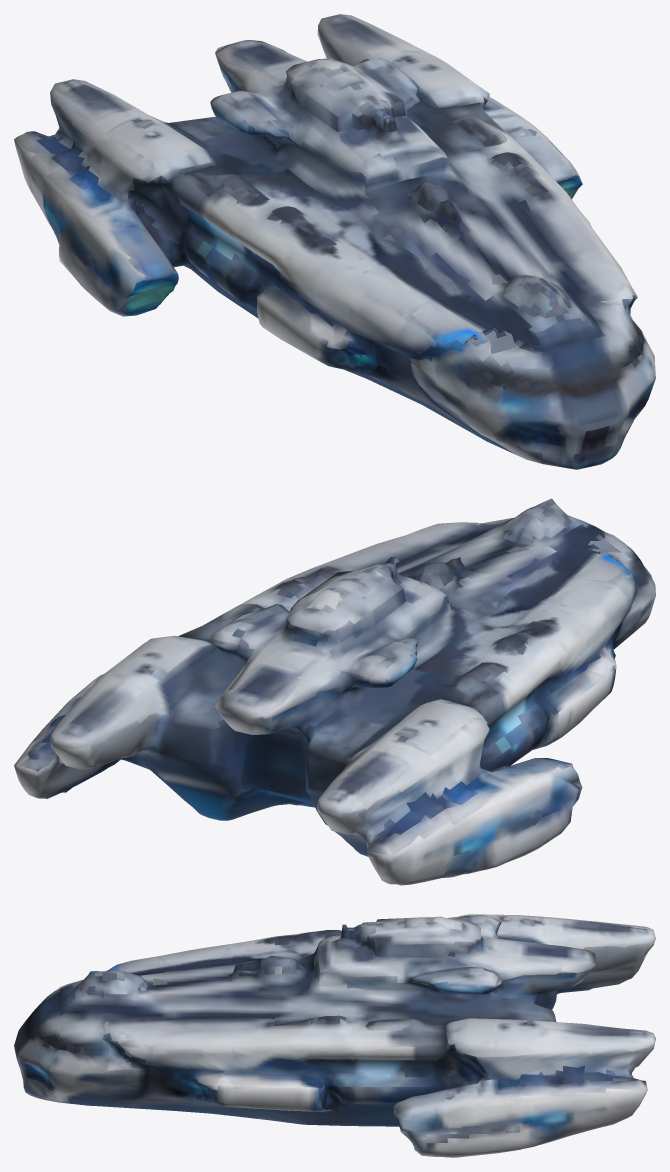
Rendered from alliance_battleship_lod1.glb.
3 renders of one model, top to bottom at view 1: azimuth 30°, elevation 25°; view 2: azimuth 150°, elevation 25°; view 3: azimuth 270°, elevation 25°, orthographic. The views are drawn at different scales.
Parts seen in each view (by area): view 1: model; view 2: model; view 3: model.
Boxes of the visible parts, left/top/right/bottom form: model: left=14, top=14, right=655, bottom=469; model: left=14, top=498, right=655, bottom=885; model: left=14, top=914, right=655, bottom=1157.
Size of the model in its own units: 1.24 by 0.5907 by 1.88.
1 material, 1 textured.
